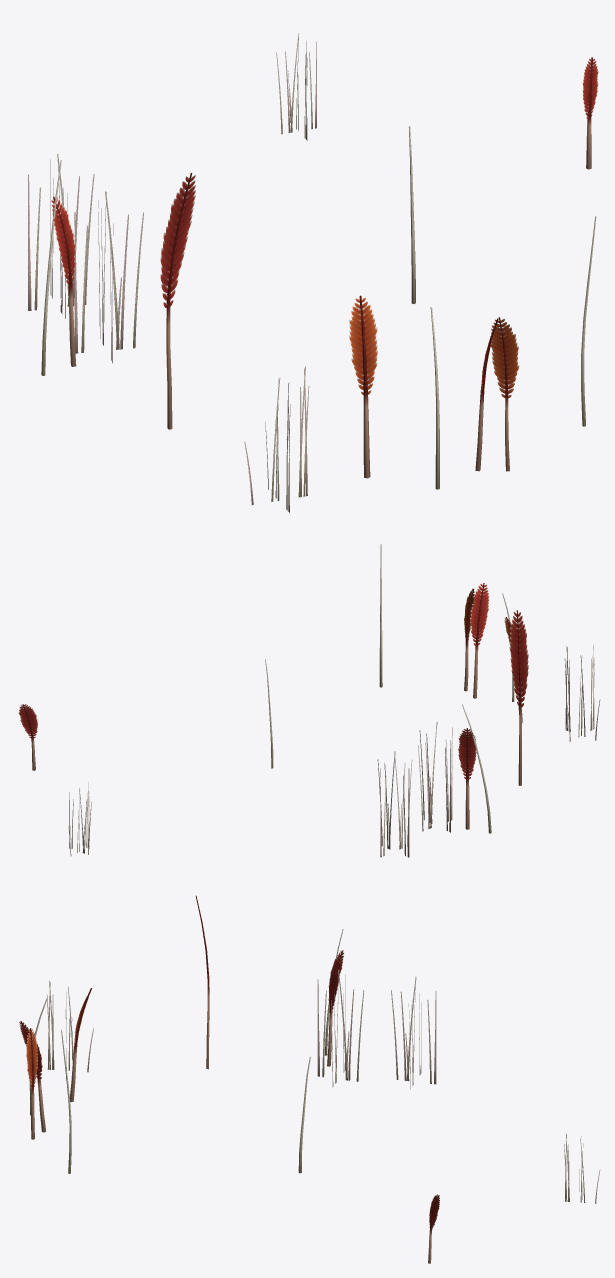
The model's file is SM_SeaPen_C.fbx.
3 views of the same model, one above another, from view 1: azimuth 30°, elevation 25°; view 2: azimuth 150°, elevation 25°; view 3: azimuth 270°, elevation 25° (orthographic). The views are drawn at different scales.
Parts seen in each view (by area): view 1: MSH_SeaPen_C_LOD0; view 2: MSH_SeaPen_C_LOD0; view 3: MSH_SeaPen_C_LOD0.
Boxes of the visible parts, x1=… form: MSH_SeaPen_C_LOD0: x1=28, y1=33, x2=598, y2=512; MSH_SeaPen_C_LOD0: x1=18, y1=544, x2=600, y2=857; MSH_SeaPen_C_LOD0: x1=19, y1=895, x2=600, y2=1263.
Size of what is drawn, in the model's own units: 1.22 by 0.4704 by 1.4.
